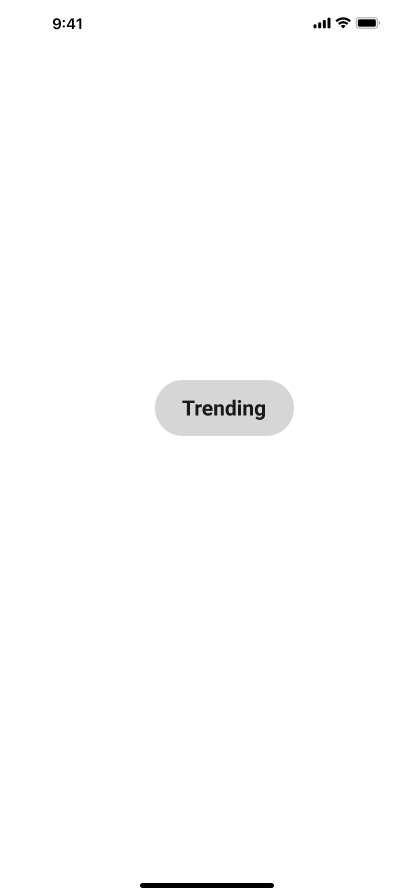Buttons: (155, 380, 302, 436)
Home Indicator: (0, 862, 414, 896)
Status Bar: (0, 0, 414, 44)
